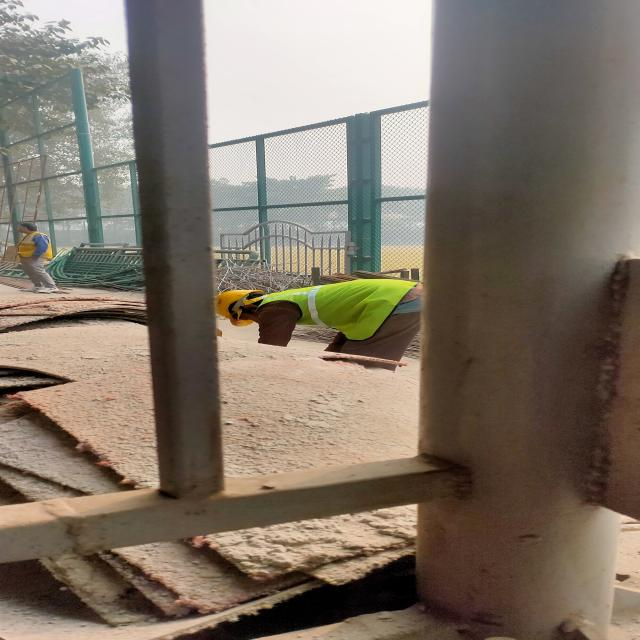safe: (220, 274, 436, 368)
